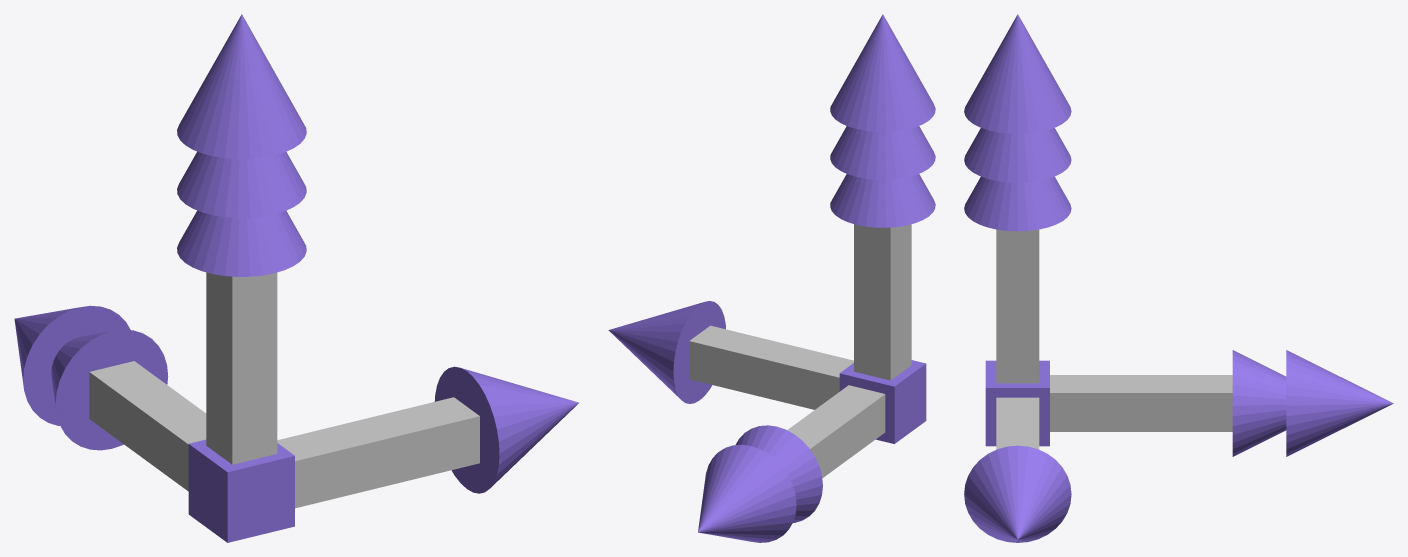
The model's file is xyz.glb.
The picture shows the model from 3 angles, left to right: view 1: azimuth 30°, elevation 25°; view 2: azimuth 150°, elevation 25°; view 3: azimuth 270°, elevation 25°; orthographic projection. The views are drawn at different scales.
Visible parts, largest first — view 1: xLine, zLine, 圓錐體.002, yLine, center, 圓錐體.003, 圓錐體.004, 圓錐體, 圓錐體.001, 圓錐體.005; view 2: zLine, xLine, 圓錐體.005, 圓錐體.002, 圓錐體.003, yLine, 圓錐體, 圓錐體.001, center, 圓錐體.004; view 3: yLine, 圓錐體.003, 圓錐體.002, zLine, 圓錐體.005, 圓錐體, 圓錐體.001, 圓錐體.004, center, xLine.
Part boxes in pixels (box(x1,y1,x2,y2)): xLine: box(277, 397, 479, 508); zLine: box(206, 272, 277, 464); 圓錐體.002: box(177, 14, 306, 159); yLine: box(89, 361, 206, 491); center: box(188, 439, 294, 542); 圓錐體.003: box(434, 366, 578, 493); 圓錐體.004: box(51, 329, 168, 450); 圓錐體: box(177, 210, 306, 276); 圓錐體.001: box(177, 151, 306, 217); 圓錐體.005: box(14, 305, 130, 425); zLine: box(854, 224, 911, 380); xLine: box(689, 325, 853, 409); 圓錐體.005: box(698, 444, 796, 542); 圓錐體.002: box(830, 14, 935, 131); 圓錐體.003: box(608, 301, 725, 403); yLine: box(787, 385, 885, 477); 圓錐體: box(830, 174, 935, 227); 圓錐體.001: box(830, 126, 935, 179); center: box(839, 360, 926, 443); 圓錐體.004: box(735, 425, 822, 522); yLine: box(1050, 375, 1232, 431); 圓錐體.003: box(964, 445, 1071, 542); 圓錐體.002: box(964, 14, 1071, 133); zLine: box(996, 229, 1039, 383); 圓錐體.005: box(1286, 350, 1393, 456); 圓錐體: box(964, 176, 1071, 231); 圓錐體.001: box(964, 128, 1071, 182); 圓錐體.004: box(1232, 350, 1286, 456); center: box(985, 360, 1049, 446); xLine: box(996, 397, 1039, 449).
Bounding box in the file's own units: 3.5 × 4.5 × 4.
